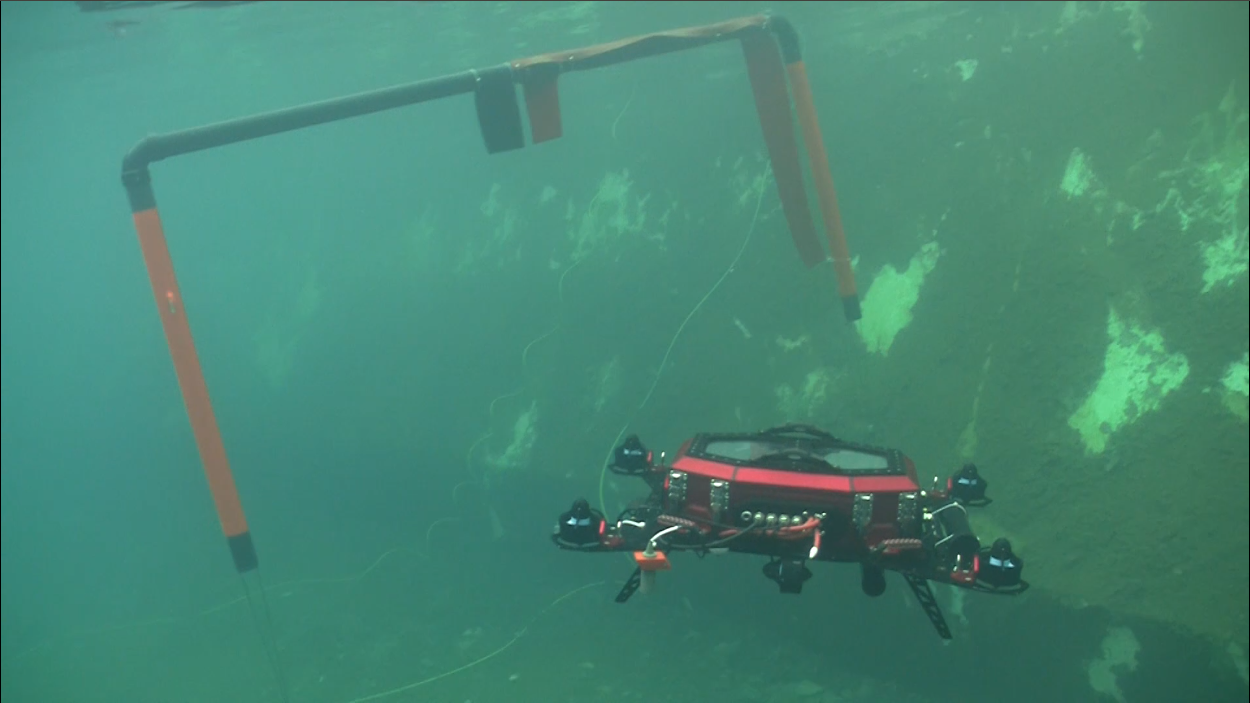gate: (99, 6, 874, 431)
